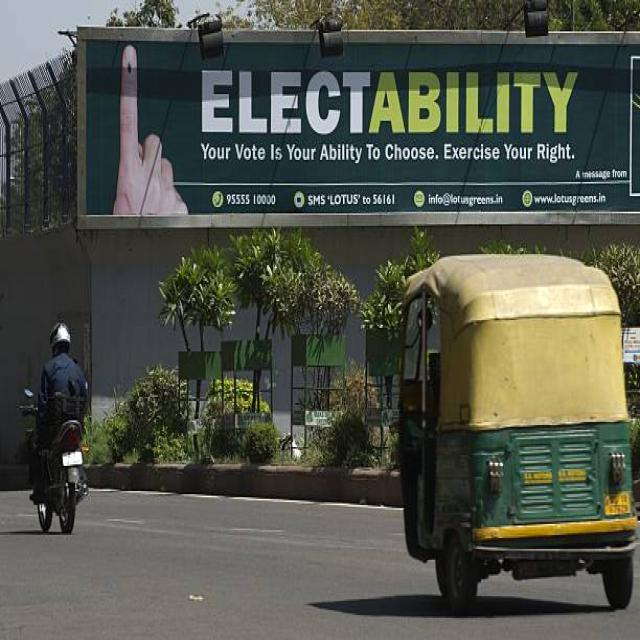Werbetafel frei: (78, 24, 640, 221)
